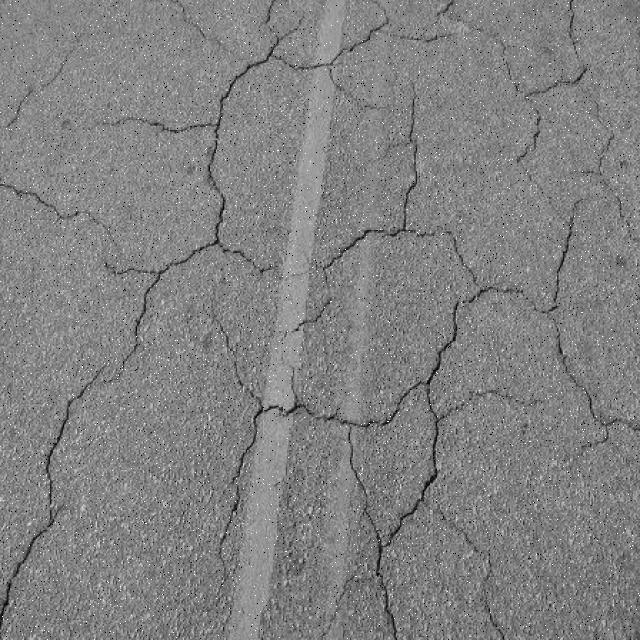Crack: (177, 0, 636, 449), (0, 31, 260, 633), (211, 309, 504, 639), (225, 80, 470, 341), (350, 288, 539, 434), (4, 186, 118, 252), (4, 38, 79, 129), (321, 569, 359, 639), (417, 231, 450, 238)
